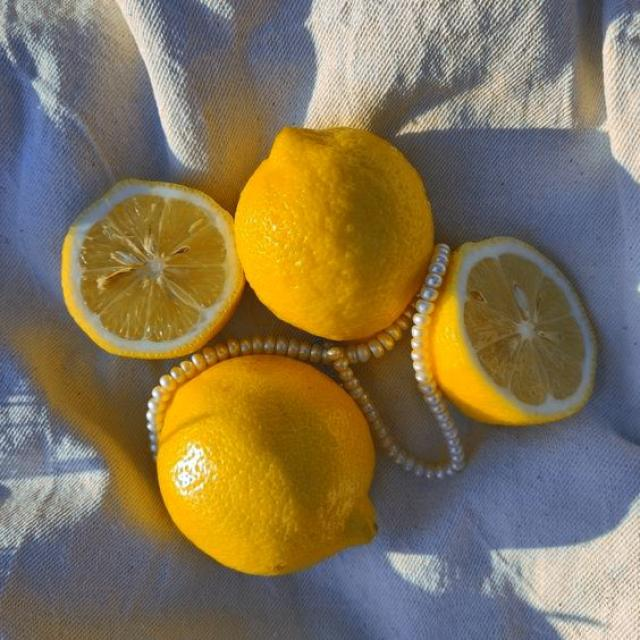lemon: (158, 356, 375, 575), (235, 128, 433, 340), (62, 181, 243, 358), (427, 238, 595, 425)
